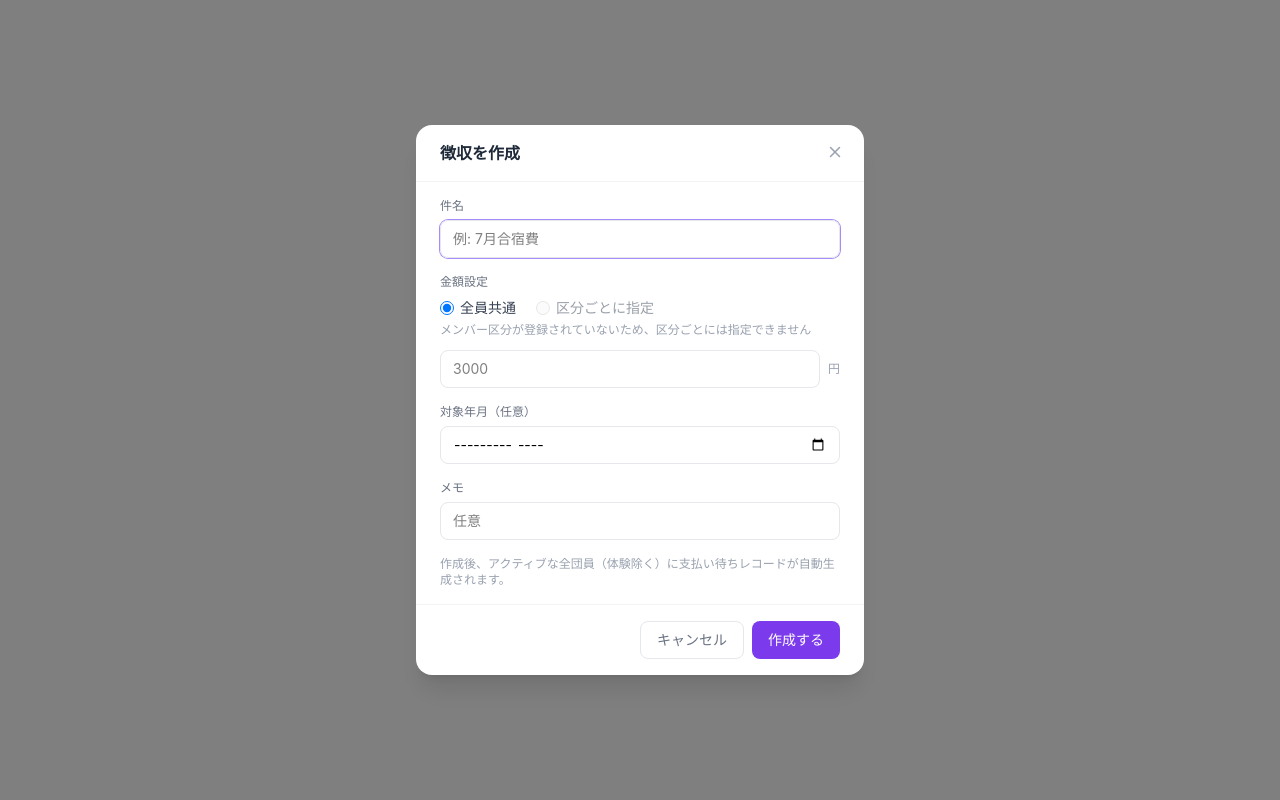
Test: CollectionModal（全員共通モード） › 作成に失敗した場合はエラーメッセージを表示する
Type "合宿費" into the field with placeholder "例: 7月合宿費" at x=640, y=239, box [440, 220, 840, 258]
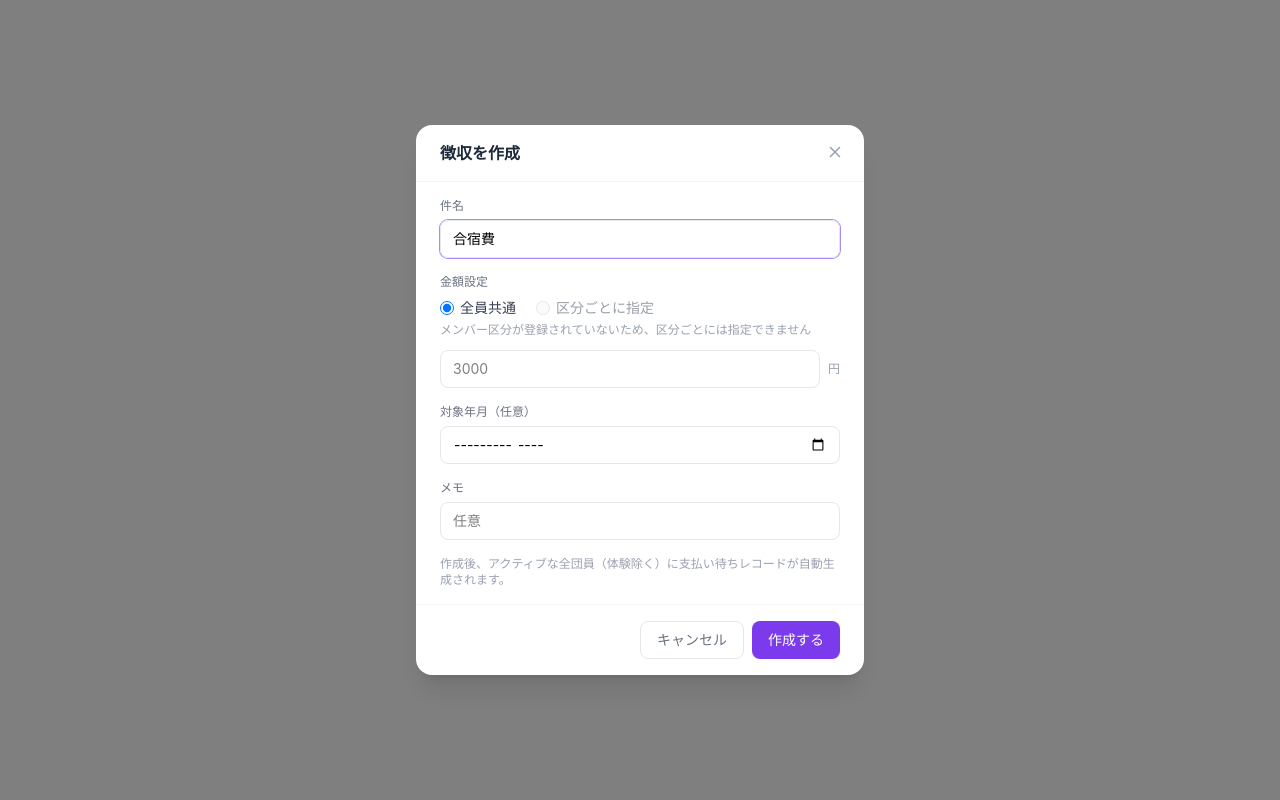
Type "15000" into the number field with placeholder "3000" at x=630, y=369, box [440, 350, 820, 388]
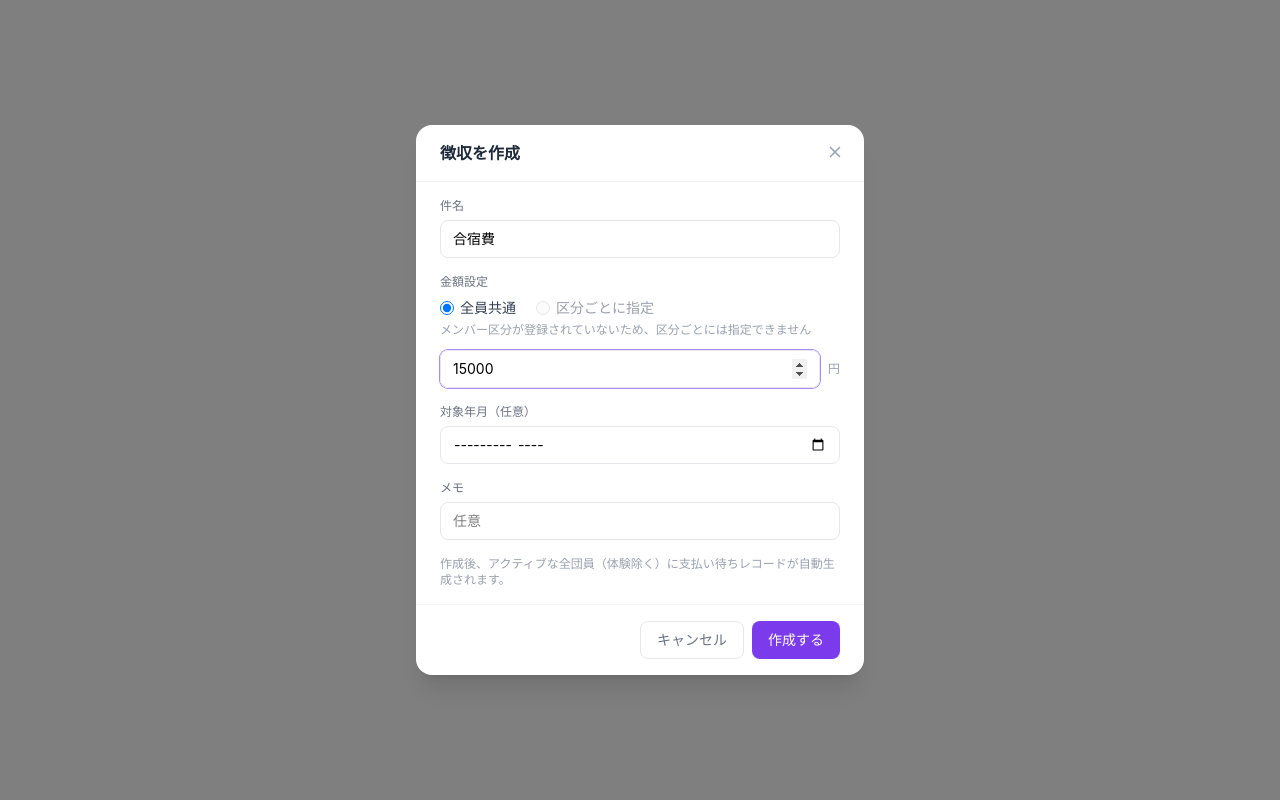
Click the button "作成する" at x=796, y=640, box [752, 621, 840, 659]
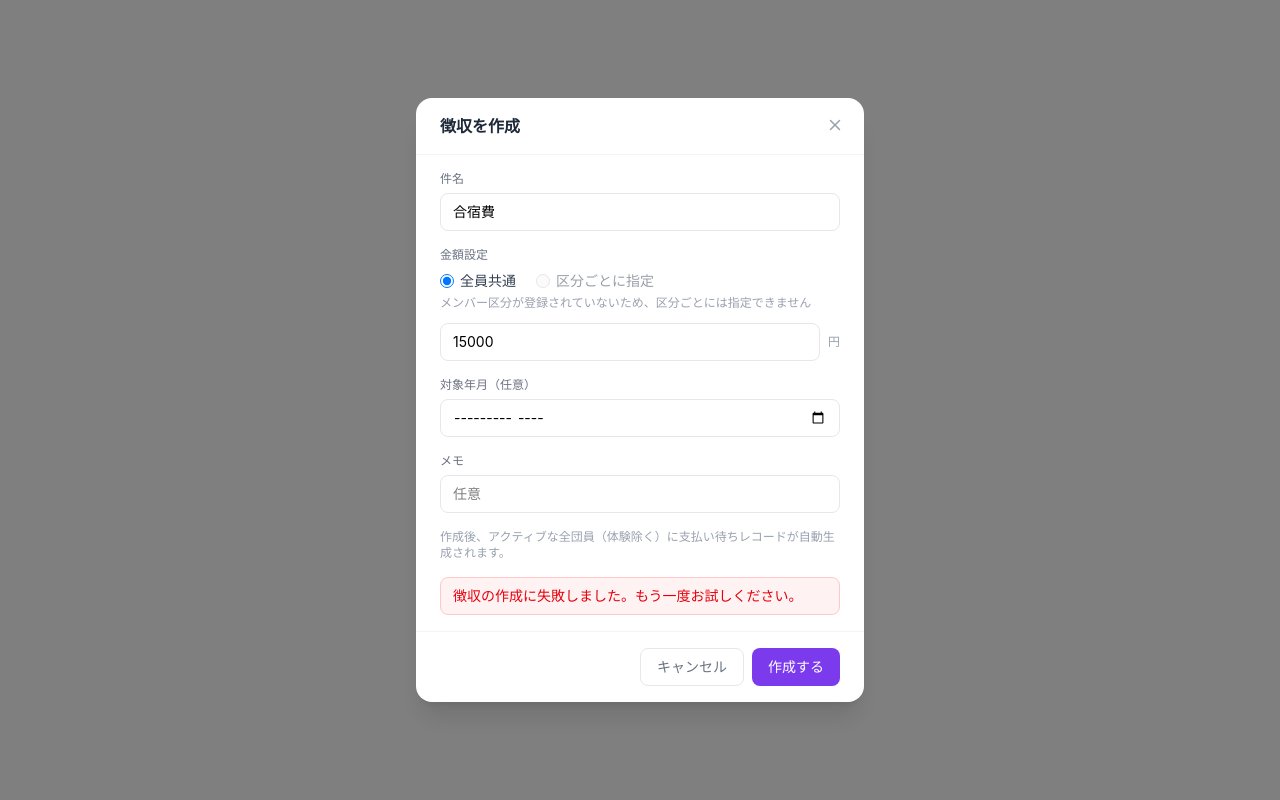
expect the message reads "徴収の作成に失敗しました。もう一度お試しください。": met, box [453, 587, 803, 604]
